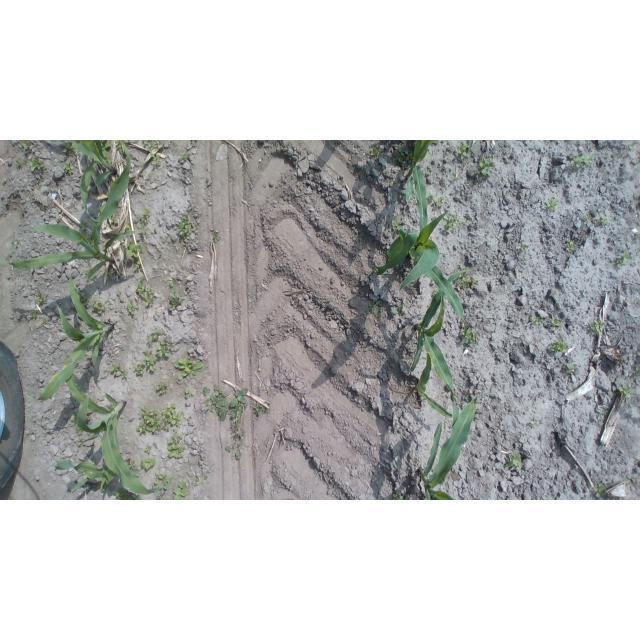Maize: (8, 143, 148, 272), (374, 164, 472, 321), (59, 363, 157, 496), (22, 274, 113, 409), (411, 264, 480, 409), (413, 398, 484, 499), (49, 452, 163, 498), (60, 143, 134, 212), (396, 142, 442, 207)
Weeds: (226, 388, 253, 461), (201, 385, 229, 422), (136, 405, 163, 436), (172, 357, 205, 382), (136, 277, 160, 310), (167, 431, 190, 462), (161, 403, 184, 431), (178, 215, 199, 241), (505, 449, 526, 475), (126, 243, 144, 273), (458, 269, 481, 292), (138, 210, 157, 236), (145, 327, 169, 347), (150, 473, 170, 496), (73, 411, 90, 437), (171, 480, 192, 500), (155, 341, 176, 361), (253, 399, 274, 418), (168, 291, 185, 314), (444, 214, 463, 234), (461, 328, 480, 348), (115, 486, 142, 500), (587, 320, 606, 339), (572, 154, 596, 169), (479, 158, 496, 179), (618, 384, 635, 405), (111, 362, 130, 380), (74, 290, 92, 309), (29, 158, 50, 174), (394, 147, 415, 162), (366, 302, 384, 319), (142, 353, 159, 371), (457, 143, 476, 159), (141, 457, 159, 473), (552, 341, 571, 356), (594, 483, 610, 500), (155, 383, 173, 398), (34, 289, 48, 307), (126, 298, 139, 317), (208, 226, 221, 244), (61, 141, 76, 156), (389, 218, 404, 233), (131, 361, 145, 377), (564, 363, 580, 377), (613, 252, 631, 264), (93, 300, 107, 315), (549, 316, 563, 331), (370, 147, 387, 159), (178, 149, 192, 163), (149, 153, 163, 167), (546, 196, 560, 210), (64, 162, 77, 177), (529, 417, 544, 430), (20, 142, 36, 154), (142, 140, 166, 148), (191, 476, 208, 487), (565, 240, 579, 253), (391, 305, 406, 317), (530, 314, 544, 326), (433, 195, 444, 210), (185, 388, 198, 400), (15, 156, 27, 168), (598, 217, 611, 228), (390, 493, 410, 500), (167, 277, 178, 288), (626, 145, 639, 154), (519, 244, 532, 253), (144, 444, 153, 456), (75, 438, 86, 446), (27, 310, 38, 318), (585, 213, 593, 222)
